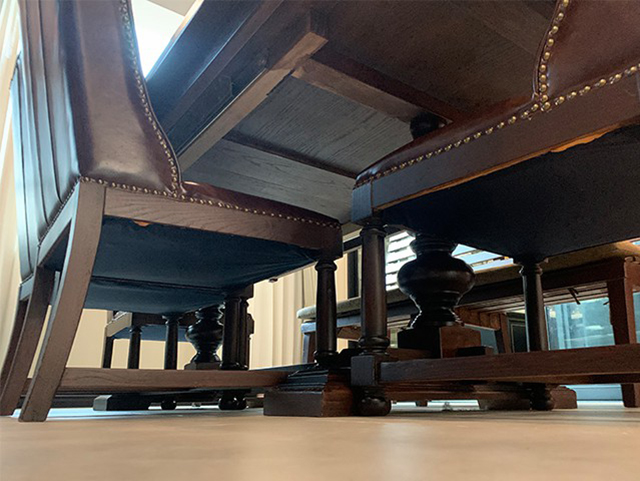stool: (1, 1, 345, 424), (348, 1, 640, 418)
